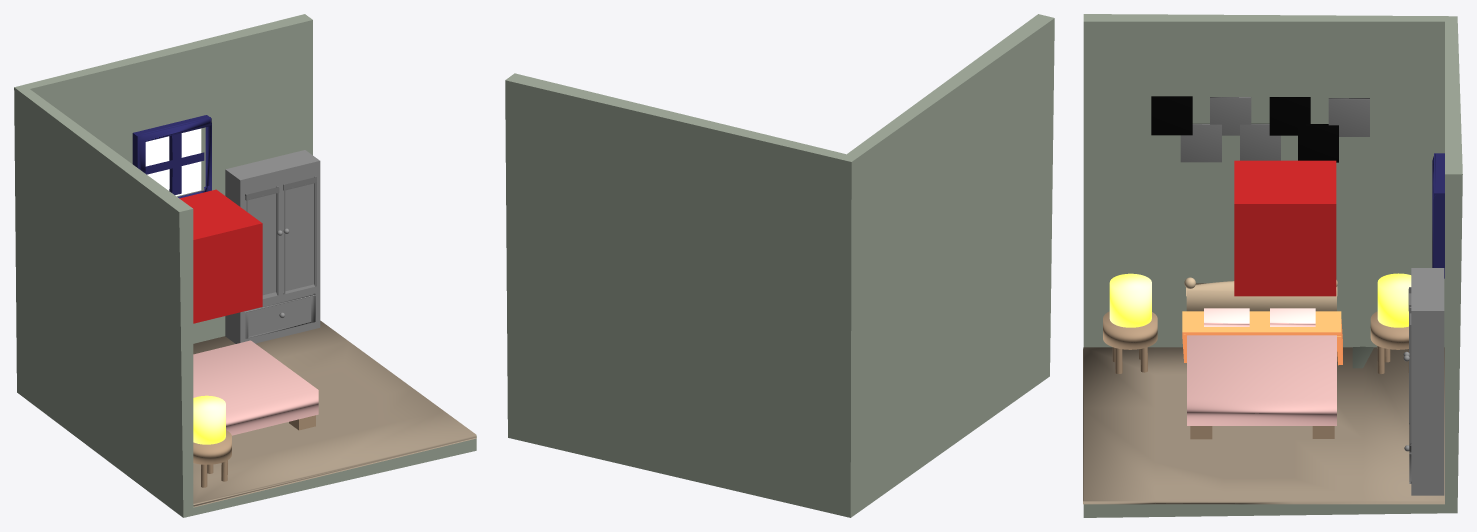
File: cubetwo.glb
The picture shows the model from 3 angles, left to right: view 1: azimuth 30°, elevation 25°; view 2: azimuth 150°, elevation 25°; view 3: azimuth 270°, elevation 25°; orthographic projection. The views are drawn at different scales.
Visible parts, largest first — view 1: Cube.028, Cube.001, Cube.016, Cube, Cube.002, Cube.027, Cylinder.005, Cube.014, Cube.015, Cylinder, Cube.018, Cube.017 (+2 smaller); view 2: Cube.028; view 3: Cube.028, Cube.001, Cube, Cube.002, Cube.016, Cube.009, Cube.007, Cylinder.005, Cylinder.011, Cube.020, Cube.021, Cube.026 (+9 smaller).
Boxes of the visible parts, left/top/right/bottom form: Cube.028: left=14, top=14, right=476, bottom=517; Cube.001: left=193, top=320, right=476, bottom=507; Cube.016: left=225, top=150, right=320, bottom=343; Cube: left=179, top=189, right=262, bottom=323; Cube.002: left=193, top=340, right=318, bottom=435; Cube.027: left=145, top=128, right=201, bottom=196; Cylinder.005: left=193, top=395, right=225, bottom=444; Cube.014: left=137, top=117, right=211, bottom=198; Cube.015: left=145, top=133, right=204, bottom=194; Cylinder: left=193, top=430, right=231, bottom=464; Cube.018: left=283, top=176, right=316, bottom=294; Cube.017: left=245, top=186, right=279, bottom=298; Cube.028: left=505, top=14, right=1054, bottom=517; Cube.028: left=1083, top=14, right=1462, bottom=517; Cube.001: left=1083, top=346, right=1444, bottom=504; Cube: left=1234, top=160, right=1336, bottom=296; Cube.002: left=1187, top=335, right=1336, bottom=425; Cube.016: left=1411, top=268, right=1444, bottom=495; Cube.009: left=1182, top=311, right=1341, bottom=336; Cube.007: left=1186, top=283, right=1336, bottom=311; Cylinder.005: left=1109, top=273, right=1151, bottom=327; Cylinder.011: left=1377, top=273, right=1411, bottom=327; Cube.020: left=1151, top=96, right=1192, bottom=135; Cube.021: left=1180, top=123, right=1221, bottom=162; Cube.026: left=1328, top=98, right=1369, bottom=136.
Bounding box in the file's own units: 7.44 × 7.44 × 7.45.
